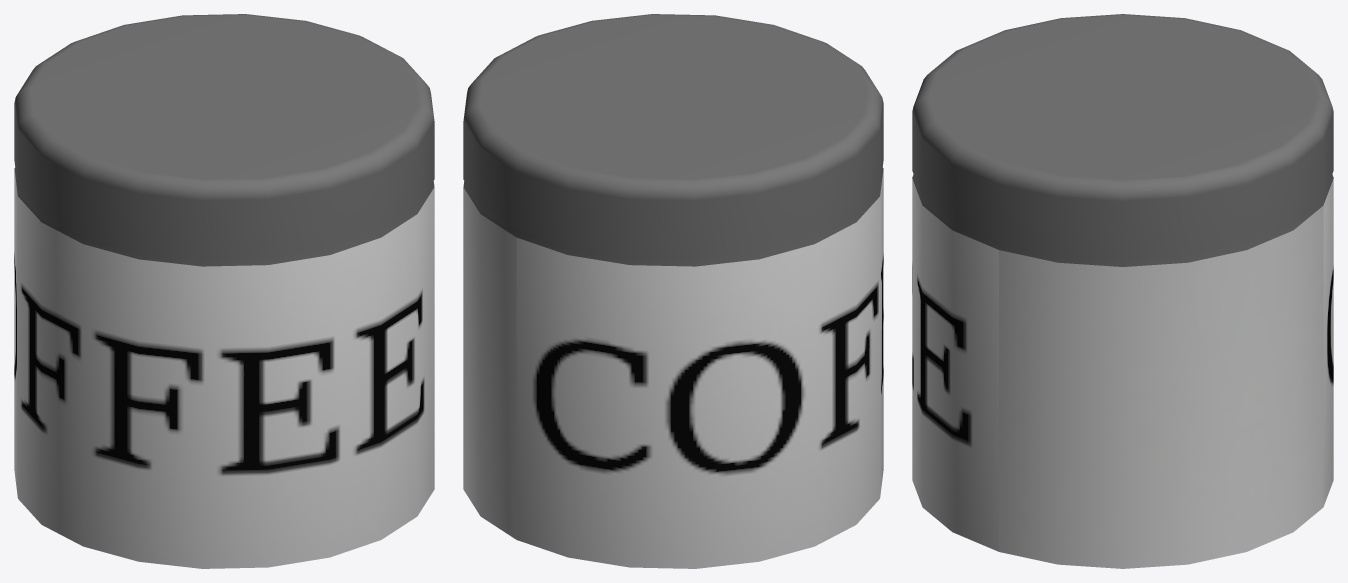
File: geo_coffeeContainer1.fbx
3 views of the same model, side by side, from view 1: azimuth 30°, elevation 25°; view 2: azimuth 150°, elevation 25°; view 3: azimuth 270°, elevation 25° (orthographic).
Parts seen in each view (by area): view 1: geo_coffeeContainer1; view 2: geo_coffeeContainer1; view 3: geo_coffeeContainer1.
Boxes of the visible parts, bbox=[...] form: geo_coffeeContainer1: bbox=[14, 14, 434, 568]; geo_coffeeContainer1: bbox=[463, 14, 883, 568]; geo_coffeeContainer1: bbox=[912, 14, 1333, 568].
Bounding box in the file's own units: 0.2269 × 0.2269 × 0.2269.
Materials: 1 (1 with a texture image).
